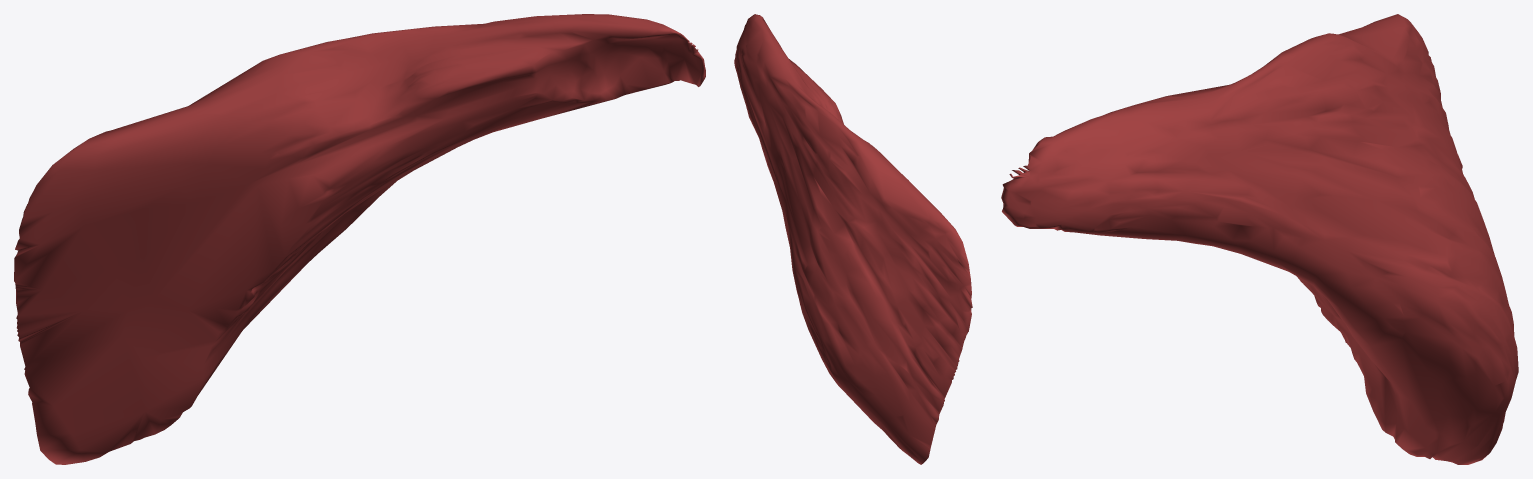
The model's file is infraspinatus-muscle-l.glb.
The picture shows the model from 3 angles, left to right: view 1: azimuth 30°, elevation 25°; view 2: azimuth 150°, elevation 25°; view 3: azimuth 270°, elevation 25°; orthographic projection. The views are drawn at different scales.
Parts seen in each view (by area): view 1: Infraspinatus muscle.l; view 2: Infraspinatus muscle.l; view 3: Infraspinatus muscle.l.
Boxes of the visible parts, bbox=[...] form: Infraspinatus muscle.l: bbox=[14, 14, 705, 464]; Infraspinatus muscle.l: bbox=[734, 14, 972, 464]; Infraspinatus muscle.l: bbox=[1001, 14, 1518, 464].
Size of the model in its own units: 0.1326 by 0.1136 by 0.0918.
